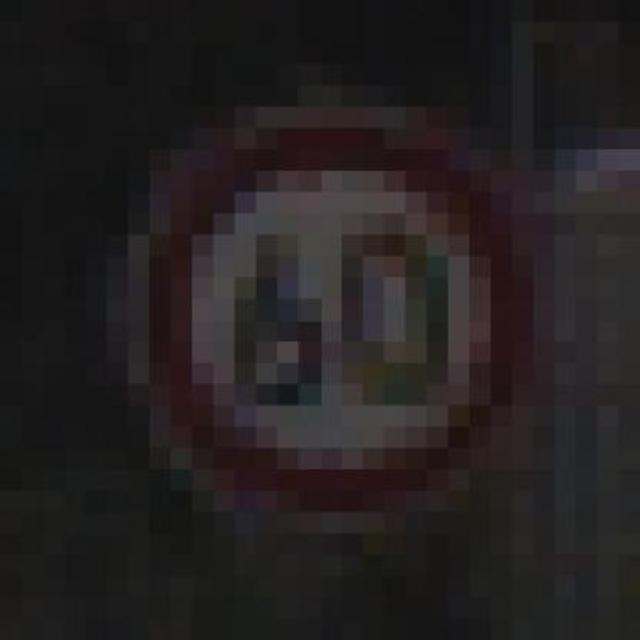forb_speed_over_60: (137, 122, 525, 522)
